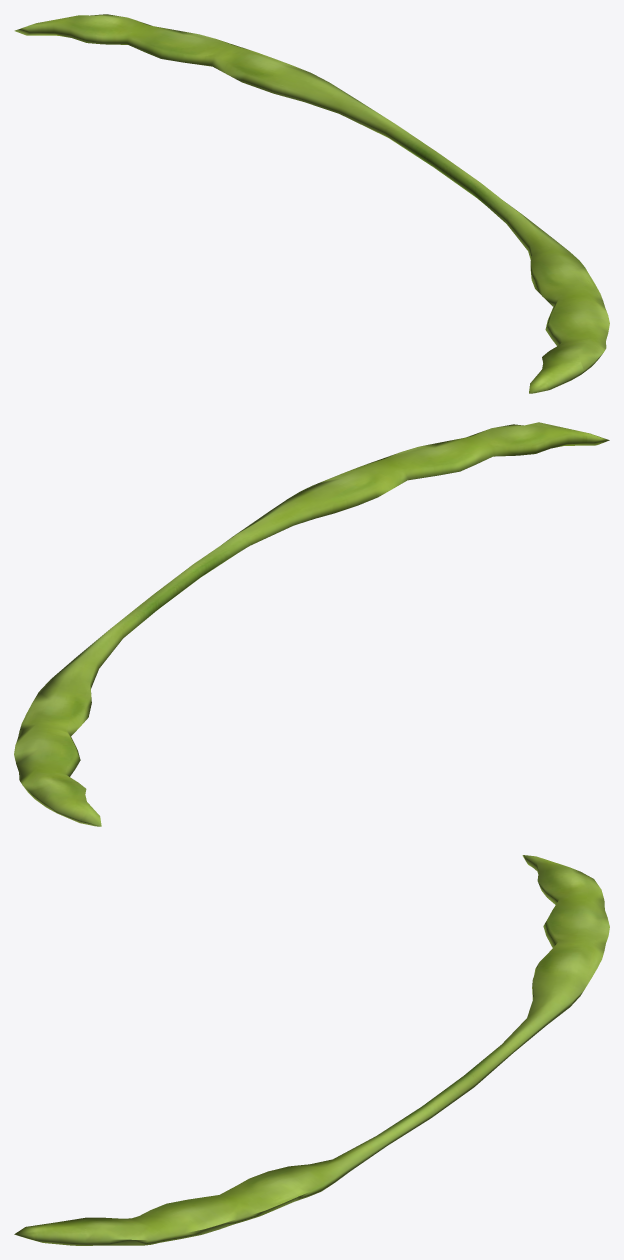
File: change_zunko_zunko_bow.glb
The picture shows the model from 3 angles, top to bottom: view 1: azimuth 30°, elevation 25°; view 2: azimuth 150°, elevation 25°; view 3: azimuth 330°, elevation 25°; orthographic projection. The views are drawn at different scales.
Size of the model in its own units: 0.3093 by 0.0395 by 1.4.
Materials: 1 (1 with a texture image).
